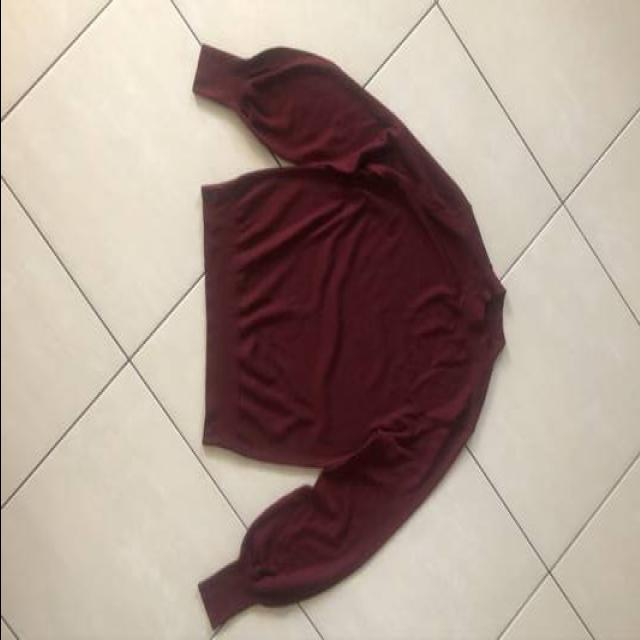non-organik: (122, 35, 514, 628)
